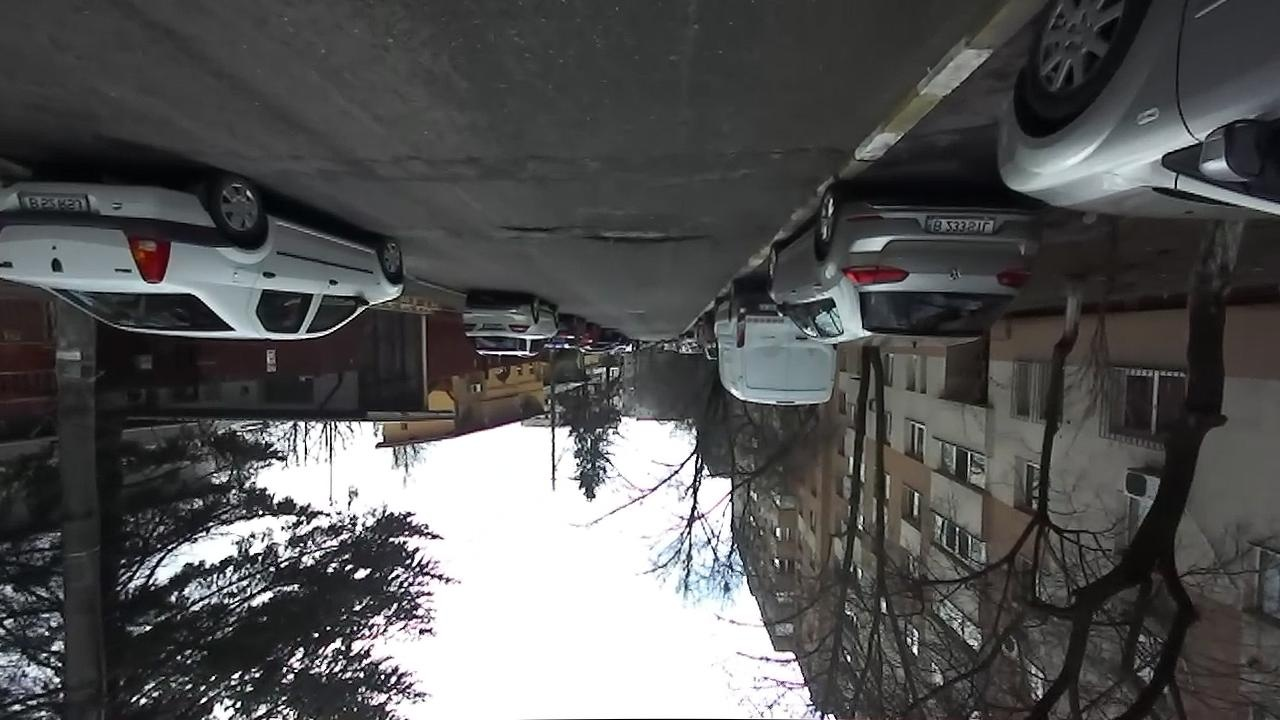pothole: (582, 225, 711, 247), (762, 141, 843, 164), (494, 222, 571, 236)
